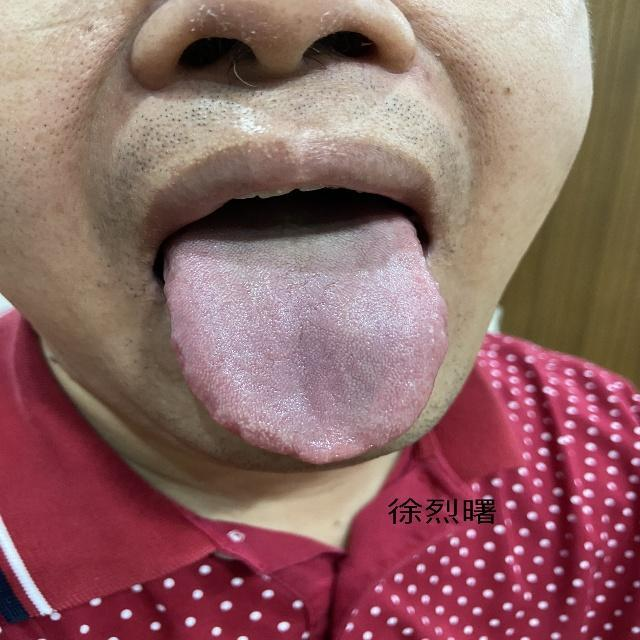baitaishe: (161, 239, 448, 465)
chihenshe: (170, 335, 249, 443)
